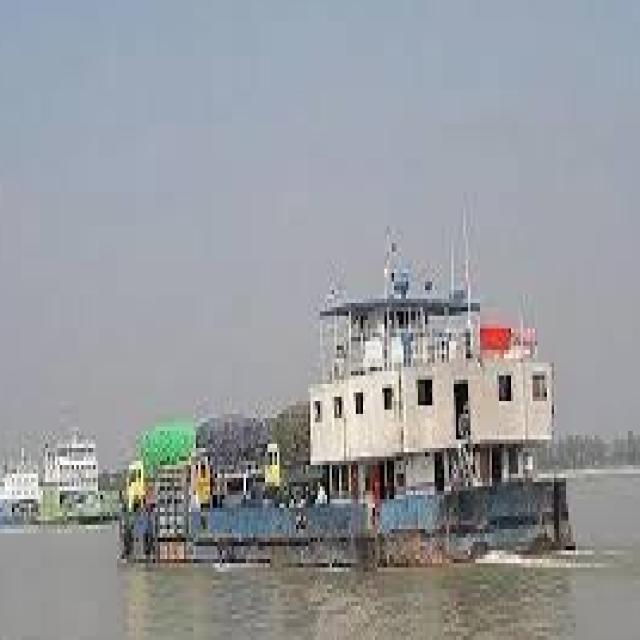cargoship: (112, 228, 584, 597)
